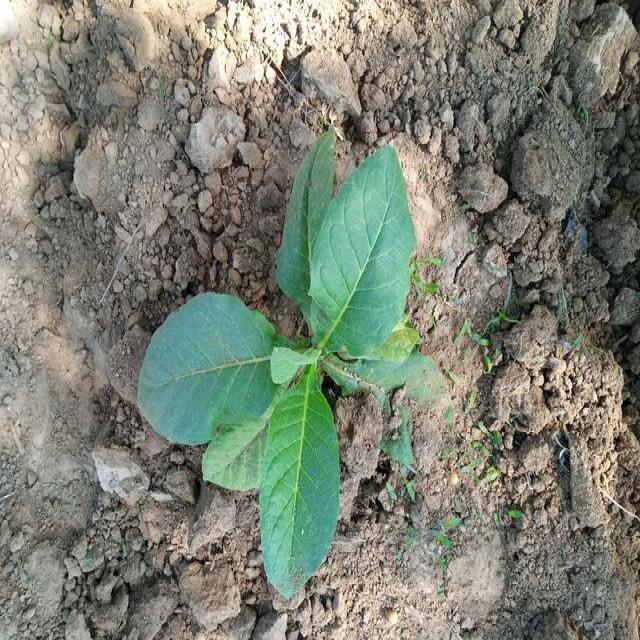crop: (134, 116, 458, 609)
